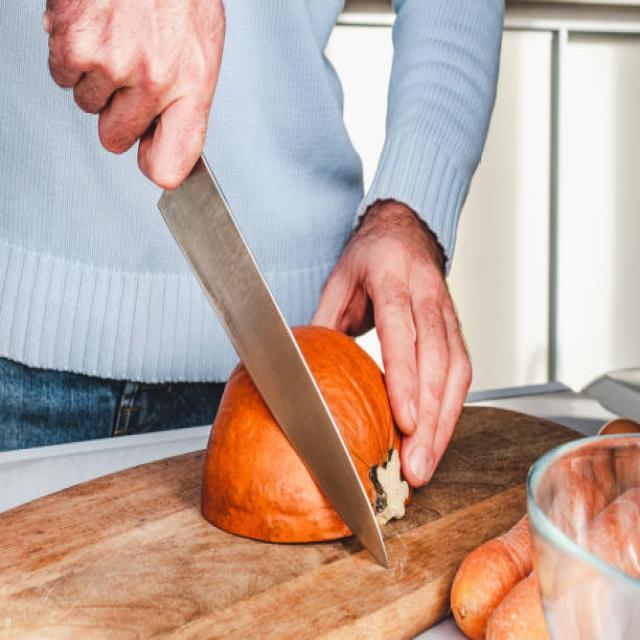faca: (62, 0, 390, 587)
